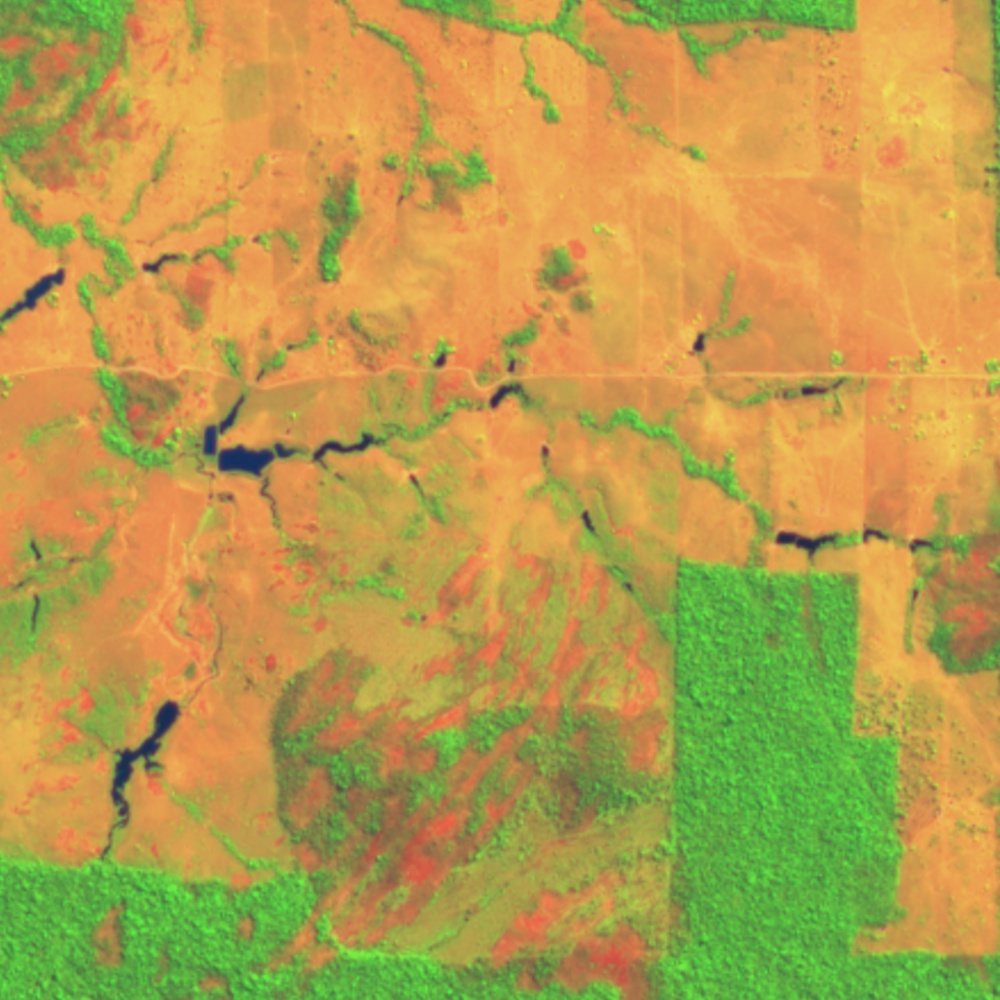illegal: (199, 357, 554, 497), (97, 696, 184, 863), (770, 527, 939, 567), (1, 264, 70, 328), (791, 371, 851, 401), (138, 246, 187, 273), (688, 326, 709, 361), (584, 506, 599, 536)
